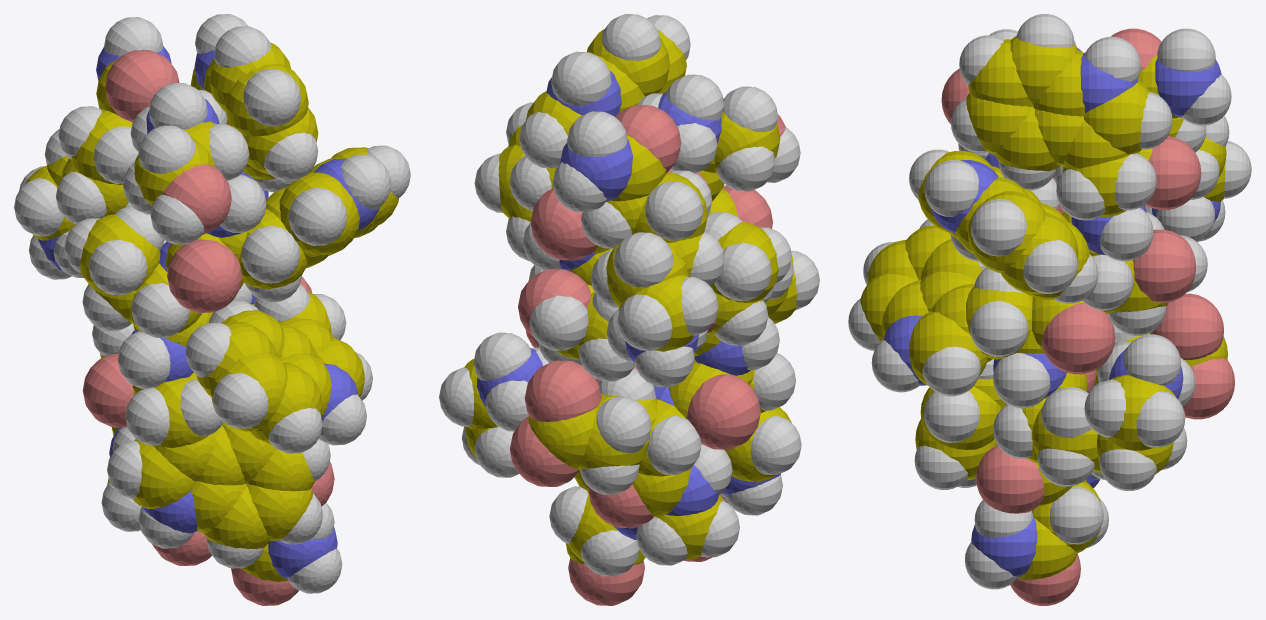
The model's file is 1le0__spheres__default.glb.
3 views of the same model, side by side, from view 1: azimuth 30°, elevation 25°; view 2: azimuth 150°, elevation 25°; view 3: azimuth 270°, elevation 25° (orthographic). The views are drawn at different scales.
Visible parts, largest first — view 1: Renderer Node; view 2: Renderer Node; view 3: Renderer Node.
Part boxes in pixels (x1,y1,x2,y2): Renderer Node: (14, 14, 410, 605); Renderer Node: (439, 14, 819, 605); Renderer Node: (848, 14, 1251, 605).
Size of the model in its own units: 14.06 by 25.84 by 16.46.
